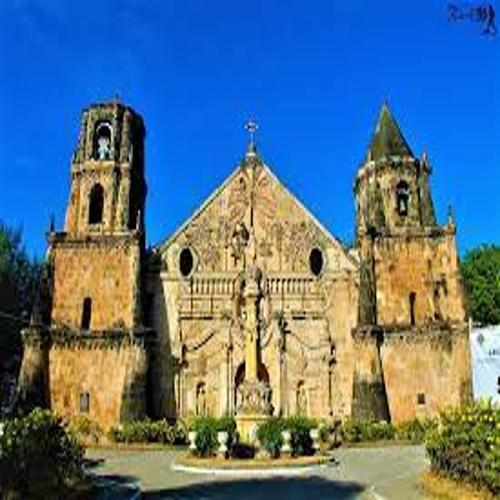Miagao Church: (25, 85, 476, 441)
